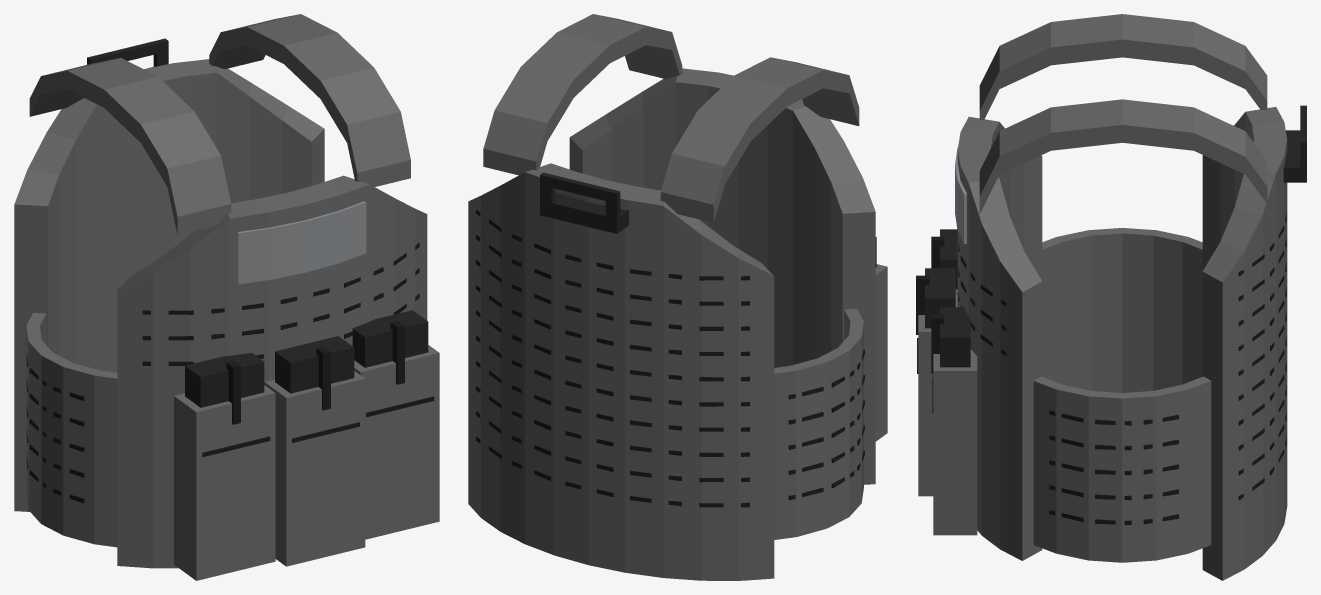
The model's file is tactical-vest-grey.glb.
3 renders of one model, left to right at view 1: azimuth 30°, elevation 25°; view 2: azimuth 150°, elevation 25°; view 3: azimuth 270°, elevation 25°, orthographic. The views are drawn at different scales.
Parts seen in each view (by area): view 1: tactical-vest-grey; view 2: tactical-vest-grey; view 3: tactical-vest-grey.
Boxes of the visible parts, x1,y1,x2,y2 form: tactical-vest-grey: [14, 14, 439, 580]; tactical-vest-grey: [468, 14, 887, 580]; tactical-vest-grey: [916, 14, 1306, 580].
Bounding box in the file's own units: 0.3685 × 0.44 × 0.356.
Materials: 1 (1 with a texture image).
